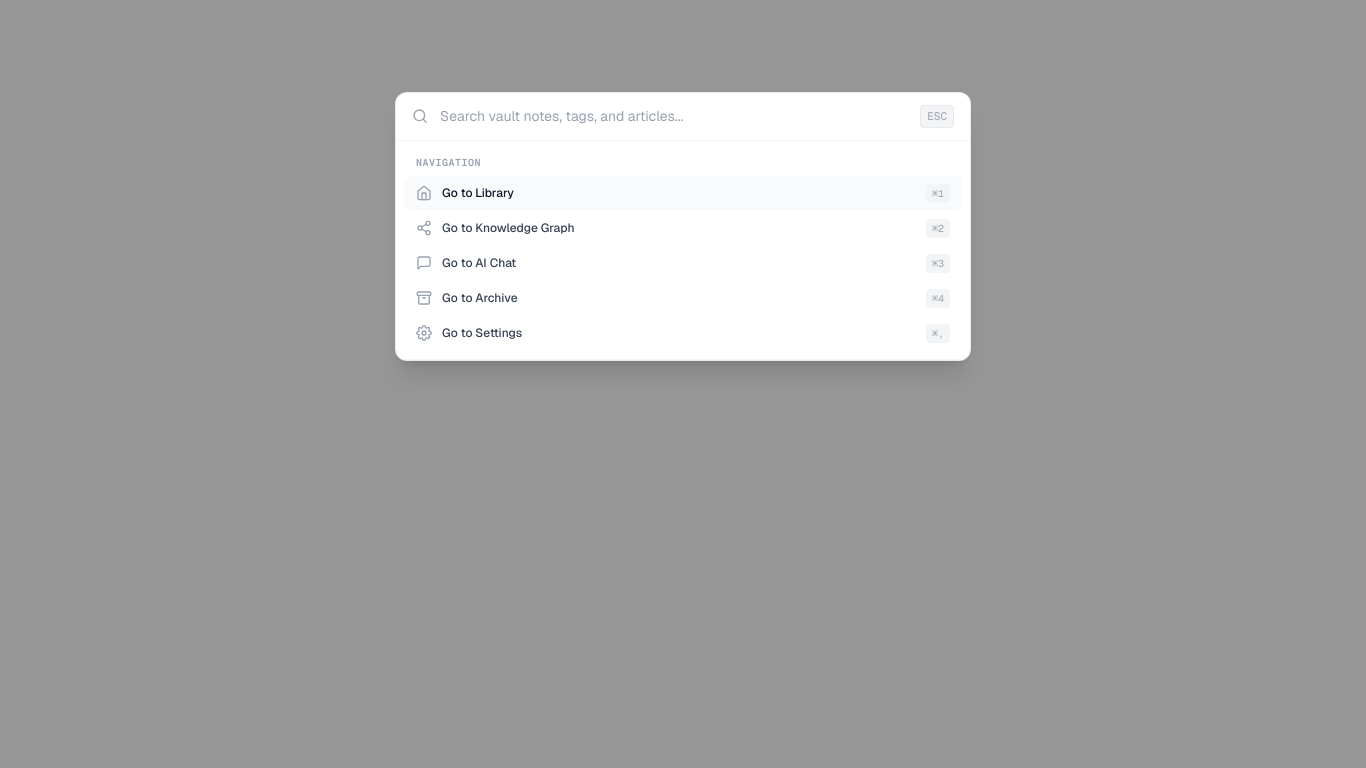
CommandPalette.vue › renders search results from API and sanitizes excerpt HTML
Type "kube" into the field with placeholder "Search vault notes, tags, and articles..." at (674, 116), box [440, 106, 908, 126]
Wait 350 ms
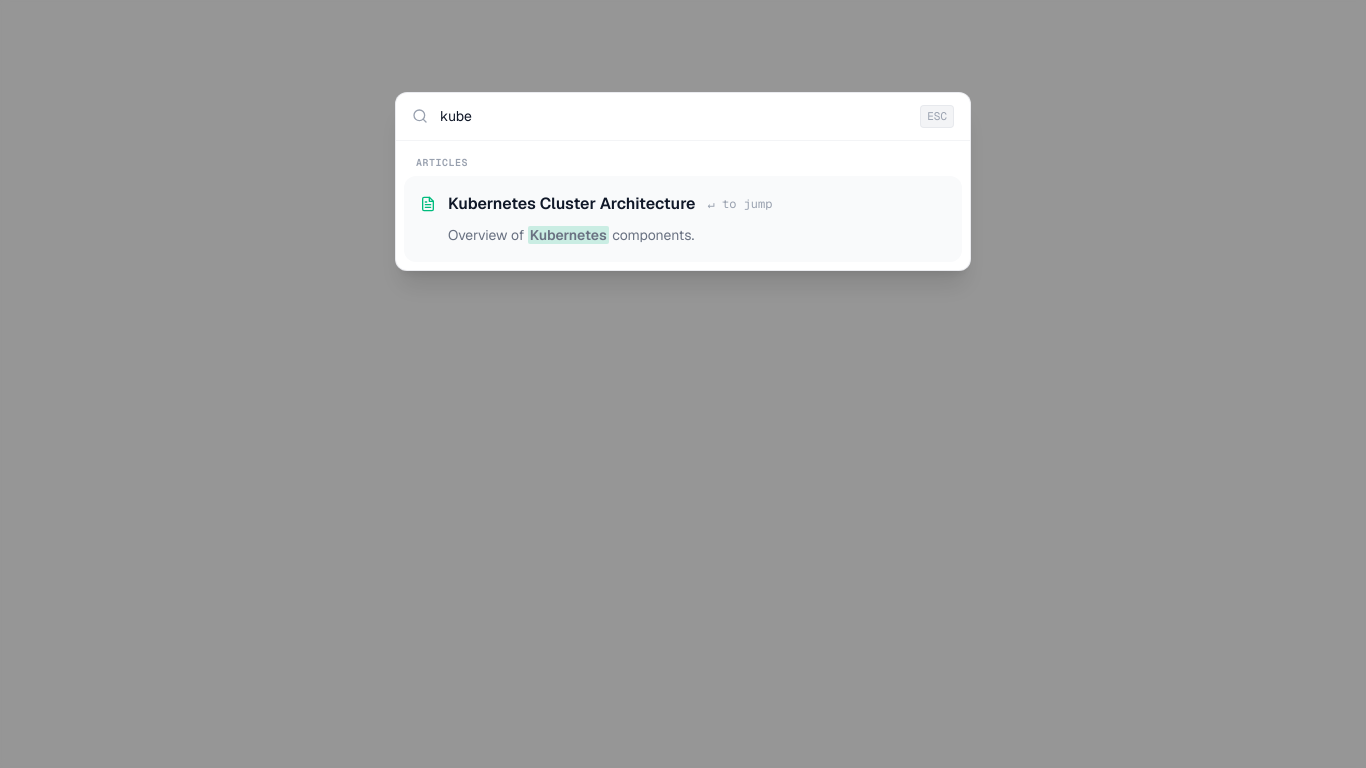
Expected: the text "Kubernetes Cluster Architecture" is shown, [448, 192, 696, 216]
Expected: the text "Kubernetes" is shown, [448, 193, 696, 214]
